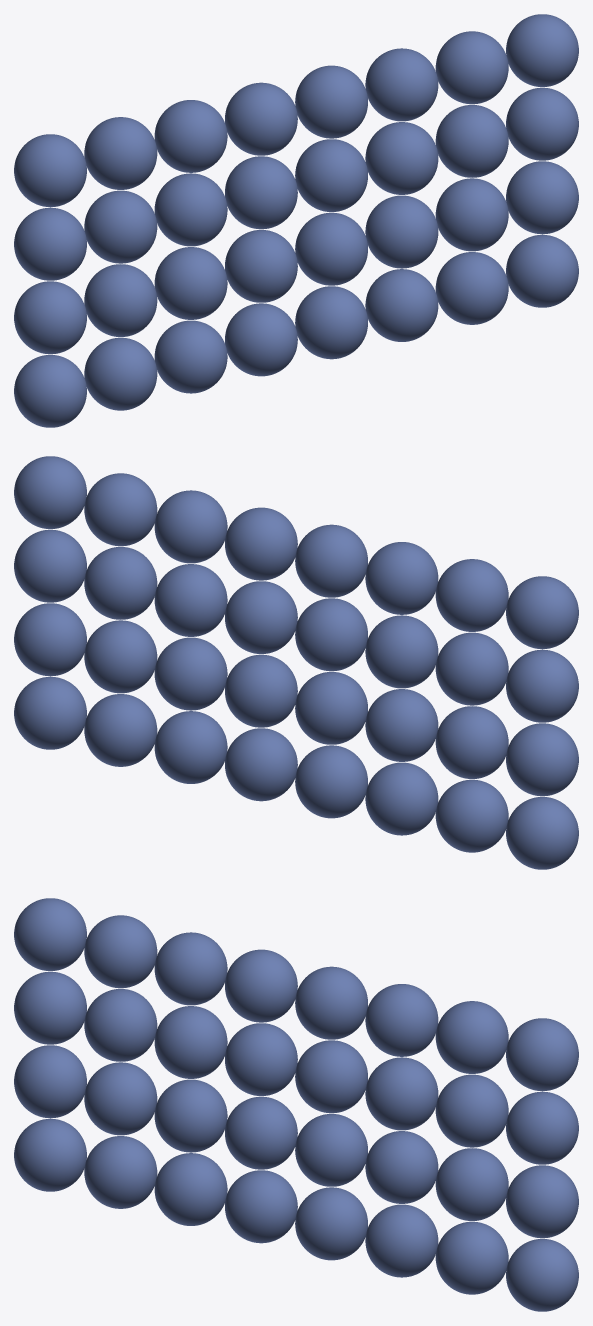
File: FuzzParameterSweep.glb
The picture shows the model from 3 angles, top to bottom: view 1: azimuth 30°, elevation 25°; view 2: azimuth 150°, elevation 25°; view 3: azimuth 330°, elevation 25°; orthographic projection.
Parts seen in each view (by area): view 1: 01_fuzz_factor_0.14, 02_fuzz_black_0.00, 02_fuzz_black_0.86, 01_fuzz_factor_0.86, 02_fuzz_black_0.14, 01_fuzz_factor_0.29, 01_fuzz_factor_0.43, 01_fuzz_factor_0.71, 02_fuzz_black_0.57, 02_fuzz_black_0.71, 03_fuzz_rough_0.71, 00_sheen_ref_0.29 (+20 smaller); view 2: 01_fuzz_factor_0.14, 02_fuzz_black_0.00, 02_fuzz_black_0.86, 01_fuzz_factor_0.86, 02_fuzz_black_0.14, 01_fuzz_factor_0.29, 01_fuzz_factor_0.43, 01_fuzz_factor_0.71, 02_fuzz_black_0.57, 02_fuzz_black_0.71, 03_fuzz_rough_0.71, 00_sheen_ref_0.29 (+20 smaller); view 3: 01_fuzz_factor_0.86, 02_fuzz_black_1.00, 02_fuzz_black_0.14, 01_fuzz_factor_0.14, 02_fuzz_black_0.86, 01_fuzz_factor_0.29, 01_fuzz_factor_0.57, 01_fuzz_factor_0.71, 02_fuzz_black_0.29, 02_fuzz_black_0.43, 03_fuzz_rough_0.29, 00_sheen_ref_0.29 (+20 smaller).
Boxes of the visible parts, x1=… form: 01_fuzz_factor_0.14: x1=84, y1=190, x2=157, y2=263; 02_fuzz_black_0.00: x1=14, y1=281, x2=86, y2=354; 02_fuzz_black_0.86: x1=435, y1=178, x2=508, y2=251; 01_fuzz_factor_0.86: x1=435, y1=105, x2=508, y2=177; 02_fuzz_black_0.14: x1=84, y1=264, x2=157, y2=336; 01_fuzz_factor_0.29: x1=154, y1=173, x2=227, y2=246; 01_fuzz_factor_0.43: x1=225, y1=156, x2=297, y2=229; 01_fuzz_factor_0.71: x1=365, y1=122, x2=438, y2=194; 02_fuzz_black_0.57: x1=295, y1=212, x2=367, y2=285; 02_fuzz_black_0.71: x1=365, y1=195, x2=438, y2=268; 03_fuzz_rough_0.71: x1=365, y1=269, x2=438, y2=341; 00_sheen_ref_0.29: x1=154, y1=100, x2=227, y2=172; 01_fuzz_factor_0.14: x1=435, y1=632, x2=508, y2=705; 02_fuzz_black_0.00: x1=506, y1=723, x2=578, y2=796; 02_fuzz_black_0.86: x1=84, y1=620, x2=157, y2=693; 01_fuzz_factor_0.86: x1=84, y1=547, x2=157, y2=619; 02_fuzz_black_0.14: x1=435, y1=706, x2=508, y2=778; 01_fuzz_factor_0.29: x1=365, y1=615, x2=438, y2=688; 01_fuzz_factor_0.43: x1=295, y1=598, x2=367, y2=671; 01_fuzz_factor_0.71: x1=154, y1=564, x2=227, y2=636; 02_fuzz_black_0.57: x1=225, y1=654, x2=297, y2=727; 02_fuzz_black_0.71: x1=154, y1=637, x2=227, y2=710; 03_fuzz_rough_0.71: x1=154, y1=711, x2=227, y2=783; 00_sheen_ref_0.29: x1=365, y1=542, x2=438, y2=614; 01_fuzz_factor_0.86: x1=435, y1=1074, x2=508, y2=1147; 02_fuzz_black_1.00: x1=506, y1=1165, x2=578, y2=1238; 02_fuzz_black_0.14: x1=84, y1=1062, x2=157, y2=1135; 01_fuzz_factor_0.14: x1=84, y1=989, x2=157, y2=1061; 02_fuzz_black_0.86: x1=435, y1=1148, x2=508, y2=1220; 01_fuzz_factor_0.29: x1=154, y1=1006, x2=227, y2=1078; 01_fuzz_factor_0.57: x1=295, y1=1040, x2=367, y2=1113; 01_fuzz_factor_0.71: x1=365, y1=1057, x2=438, y2=1130; 02_fuzz_black_0.29: x1=154, y1=1079, x2=227, y2=1152; 02_fuzz_black_0.43: x1=225, y1=1096, x2=297, y2=1169; 03_fuzz_rough_0.29: x1=154, y1=1153, x2=227, y2=1225; 00_sheen_ref_0.29: x1=154, y1=932, x2=227, y2=1005.
Size of the model in its own units: 7.9 by 3.9 by 0.9.
